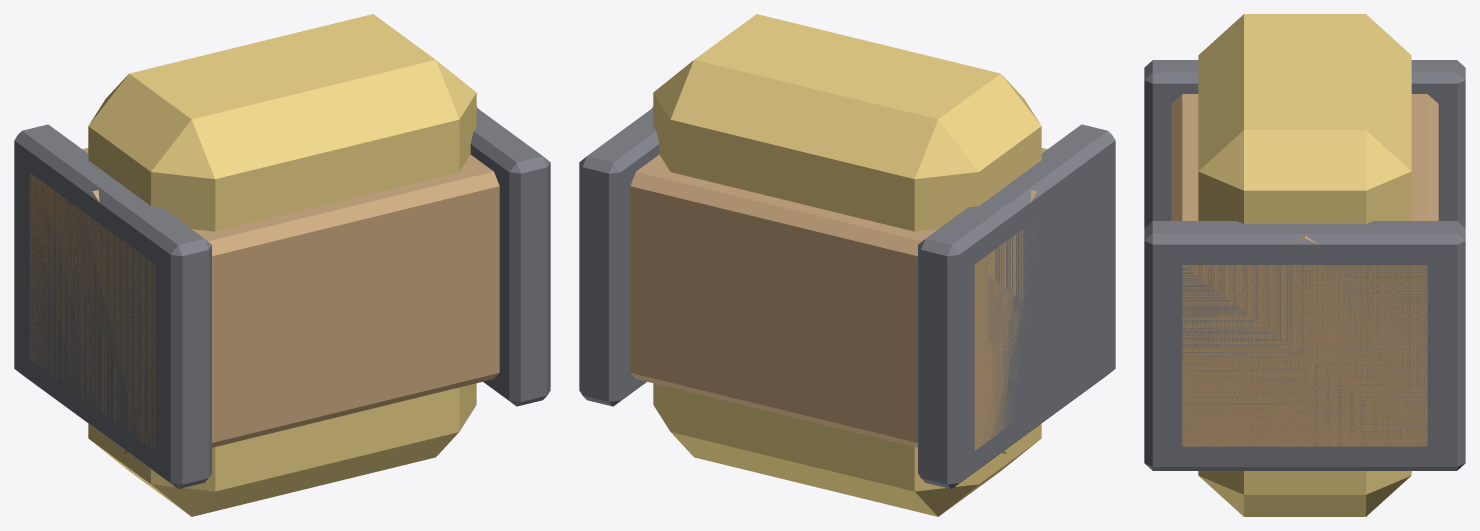
The model's file is treasure_chest.glb.
3 views of the same model, side by side, from view 1: azimuth 30°, elevation 25°; view 2: azimuth 150°, elevation 25°; view 3: azimuth 270°, elevation 25° (orthographic). The views are drawn at different scales.
Parts seen in each view (by area): view 1: treasure_chest_0, treasure_chest_2, treasure_chest_1; view 2: treasure_chest_2, treasure_chest_0, treasure_chest_1; view 3: treasure_chest_1, treasure_chest_0, treasure_chest_2.
Part boxes in pixels (bbox=[...]): treasure_chest_0: bbox=[29, 148, 499, 449]; treasure_chest_2: bbox=[88, 14, 476, 516]; treasure_chest_1: bbox=[14, 108, 550, 489]; treasure_chest_2: bbox=[653, 14, 1041, 516]; treasure_chest_0: bbox=[630, 148, 1047, 450]; treasure_chest_1: bbox=[579, 108, 1115, 489]; treasure_chest_1: bbox=[1144, 60, 1465, 470]; treasure_chest_0: bbox=[1171, 94, 1438, 446]; treasure_chest_2: bbox=[1198, 14, 1411, 516].
Size of the model in its own units: 2 by 2 by 1.51.
